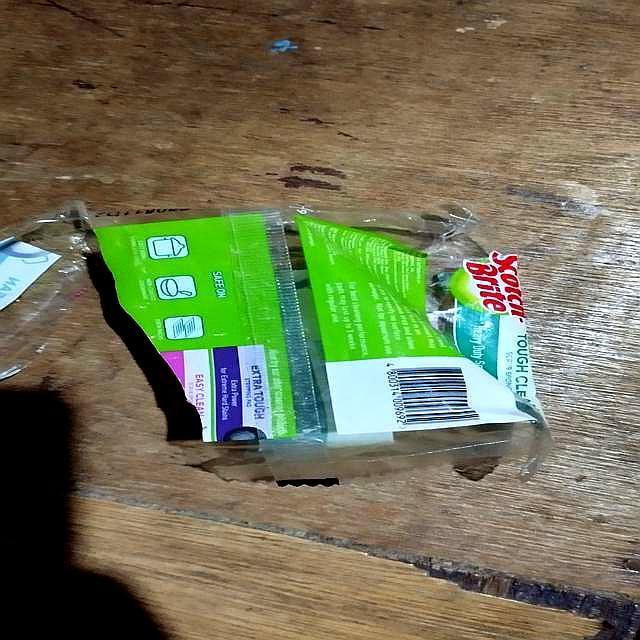Non-biodegradable: (73, 207, 557, 491)
